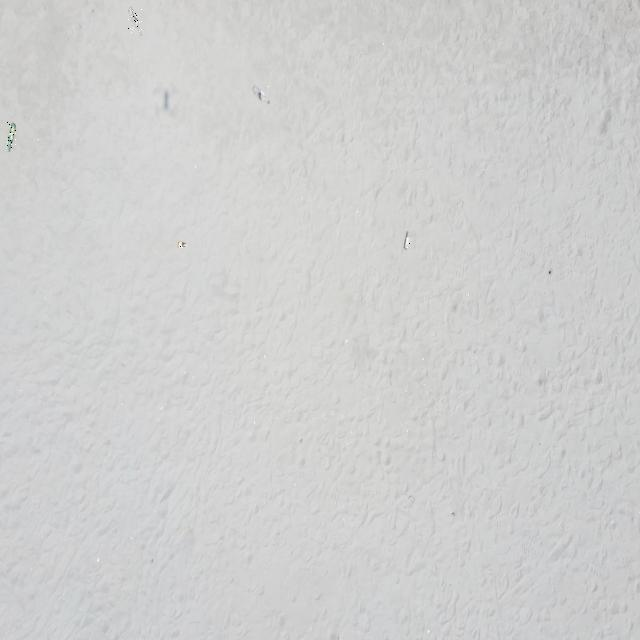glass: (128, 7, 142, 36), (253, 85, 270, 104), (7, 122, 16, 153), (404, 230, 410, 250), (178, 242, 188, 248)
